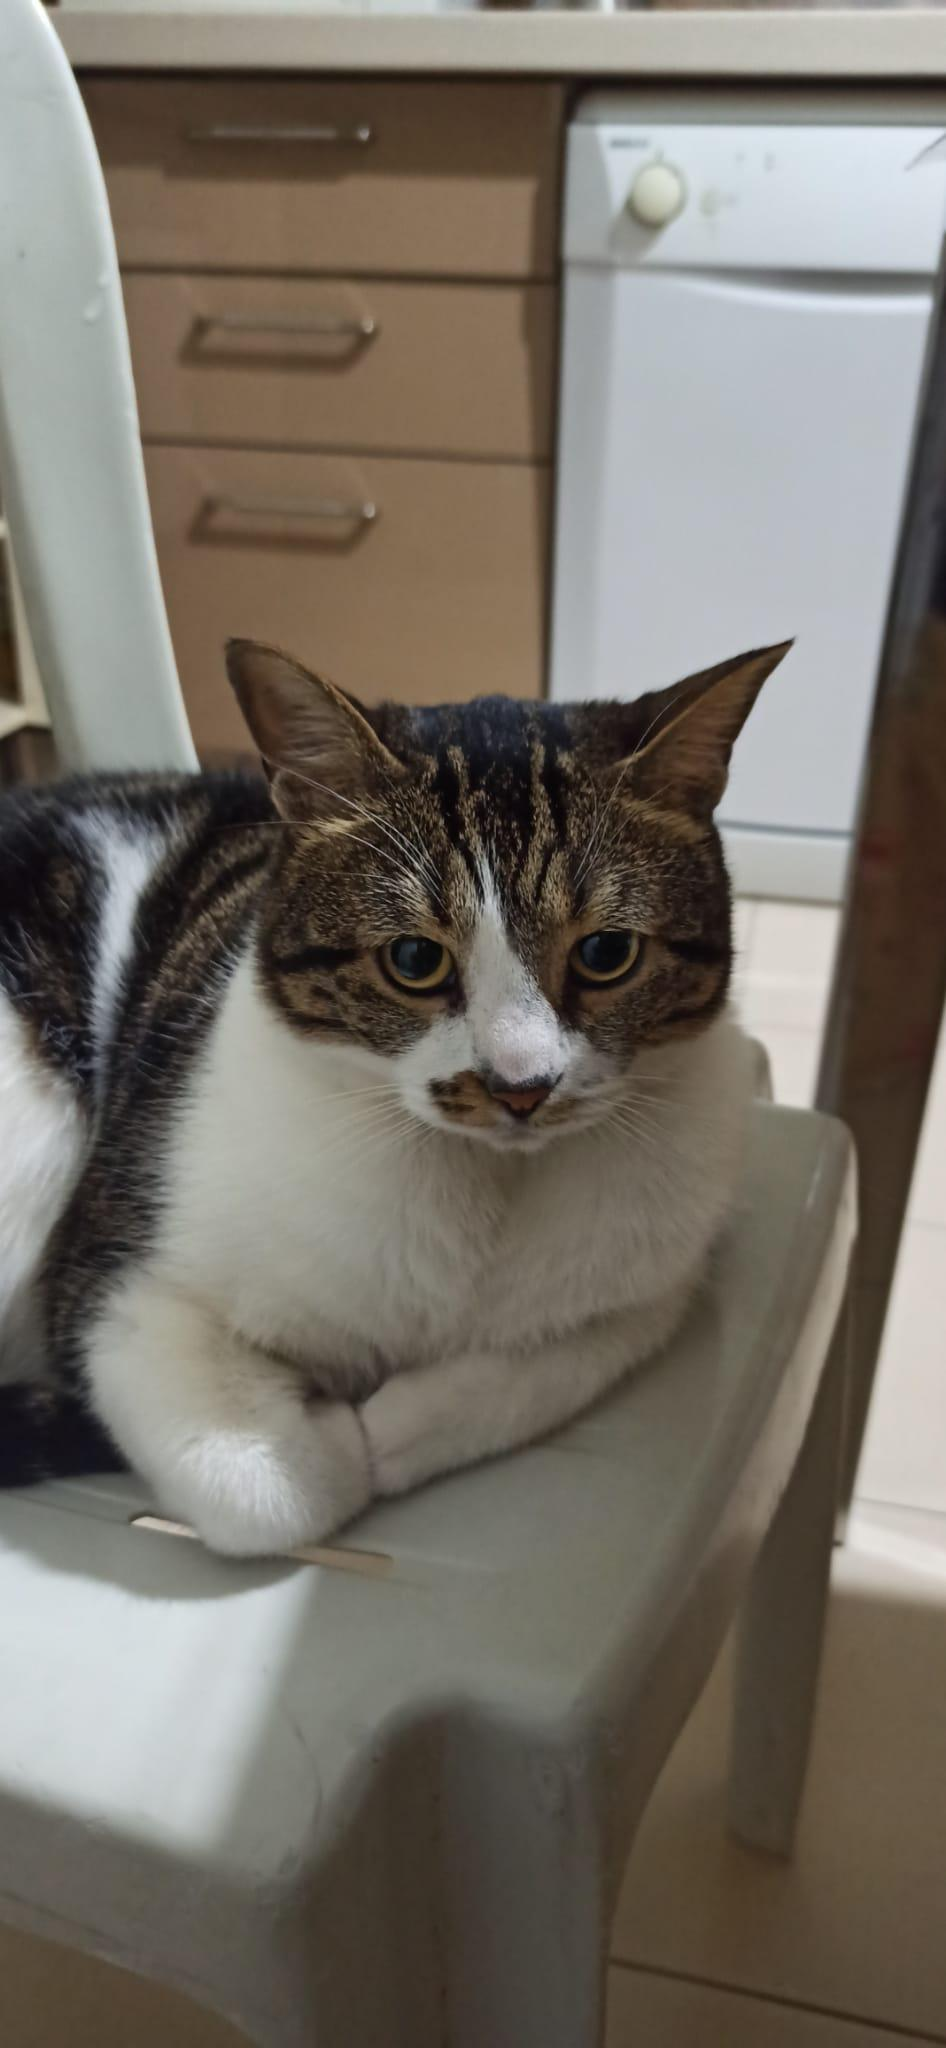kedo: (0, 627, 792, 1556)
